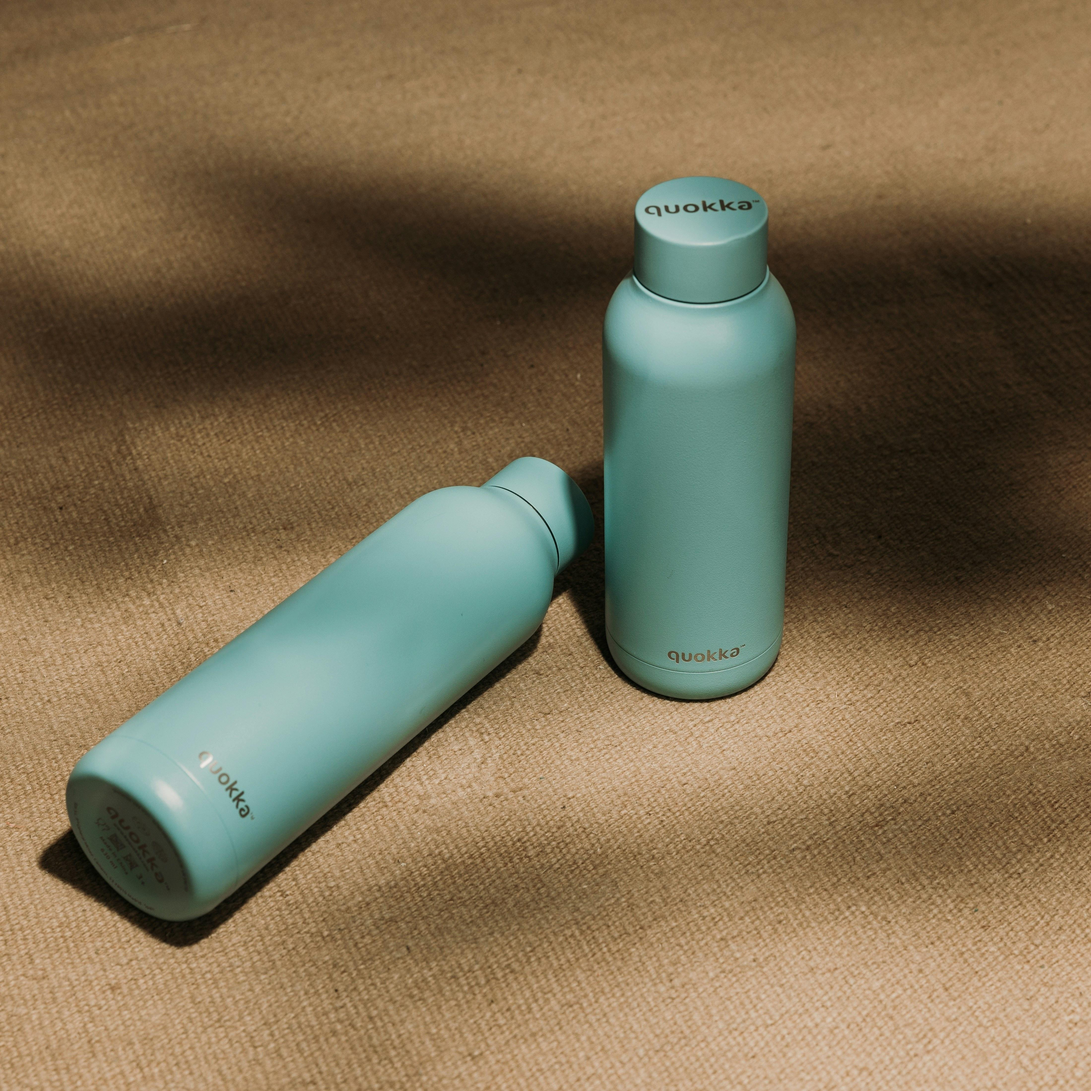Bottle-Detection: (42, 414, 598, 958), (581, 129, 831, 734)
